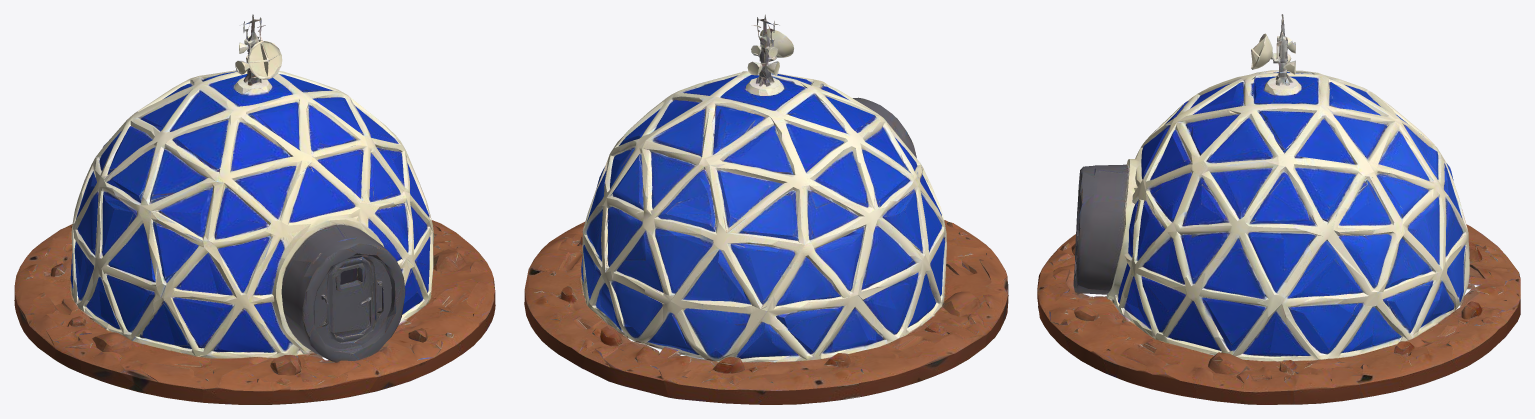
The model's file is housing.glb.
3 views of the same model, side by side, from view 1: azimuth 30°, elevation 25°; view 2: azimuth 150°, elevation 25°; view 3: azimuth 270°, elevation 25° (orthographic).
Bounding box in the file's own units: 1.9 × 1.25 × 1.9.
1 material, 1 textured.
